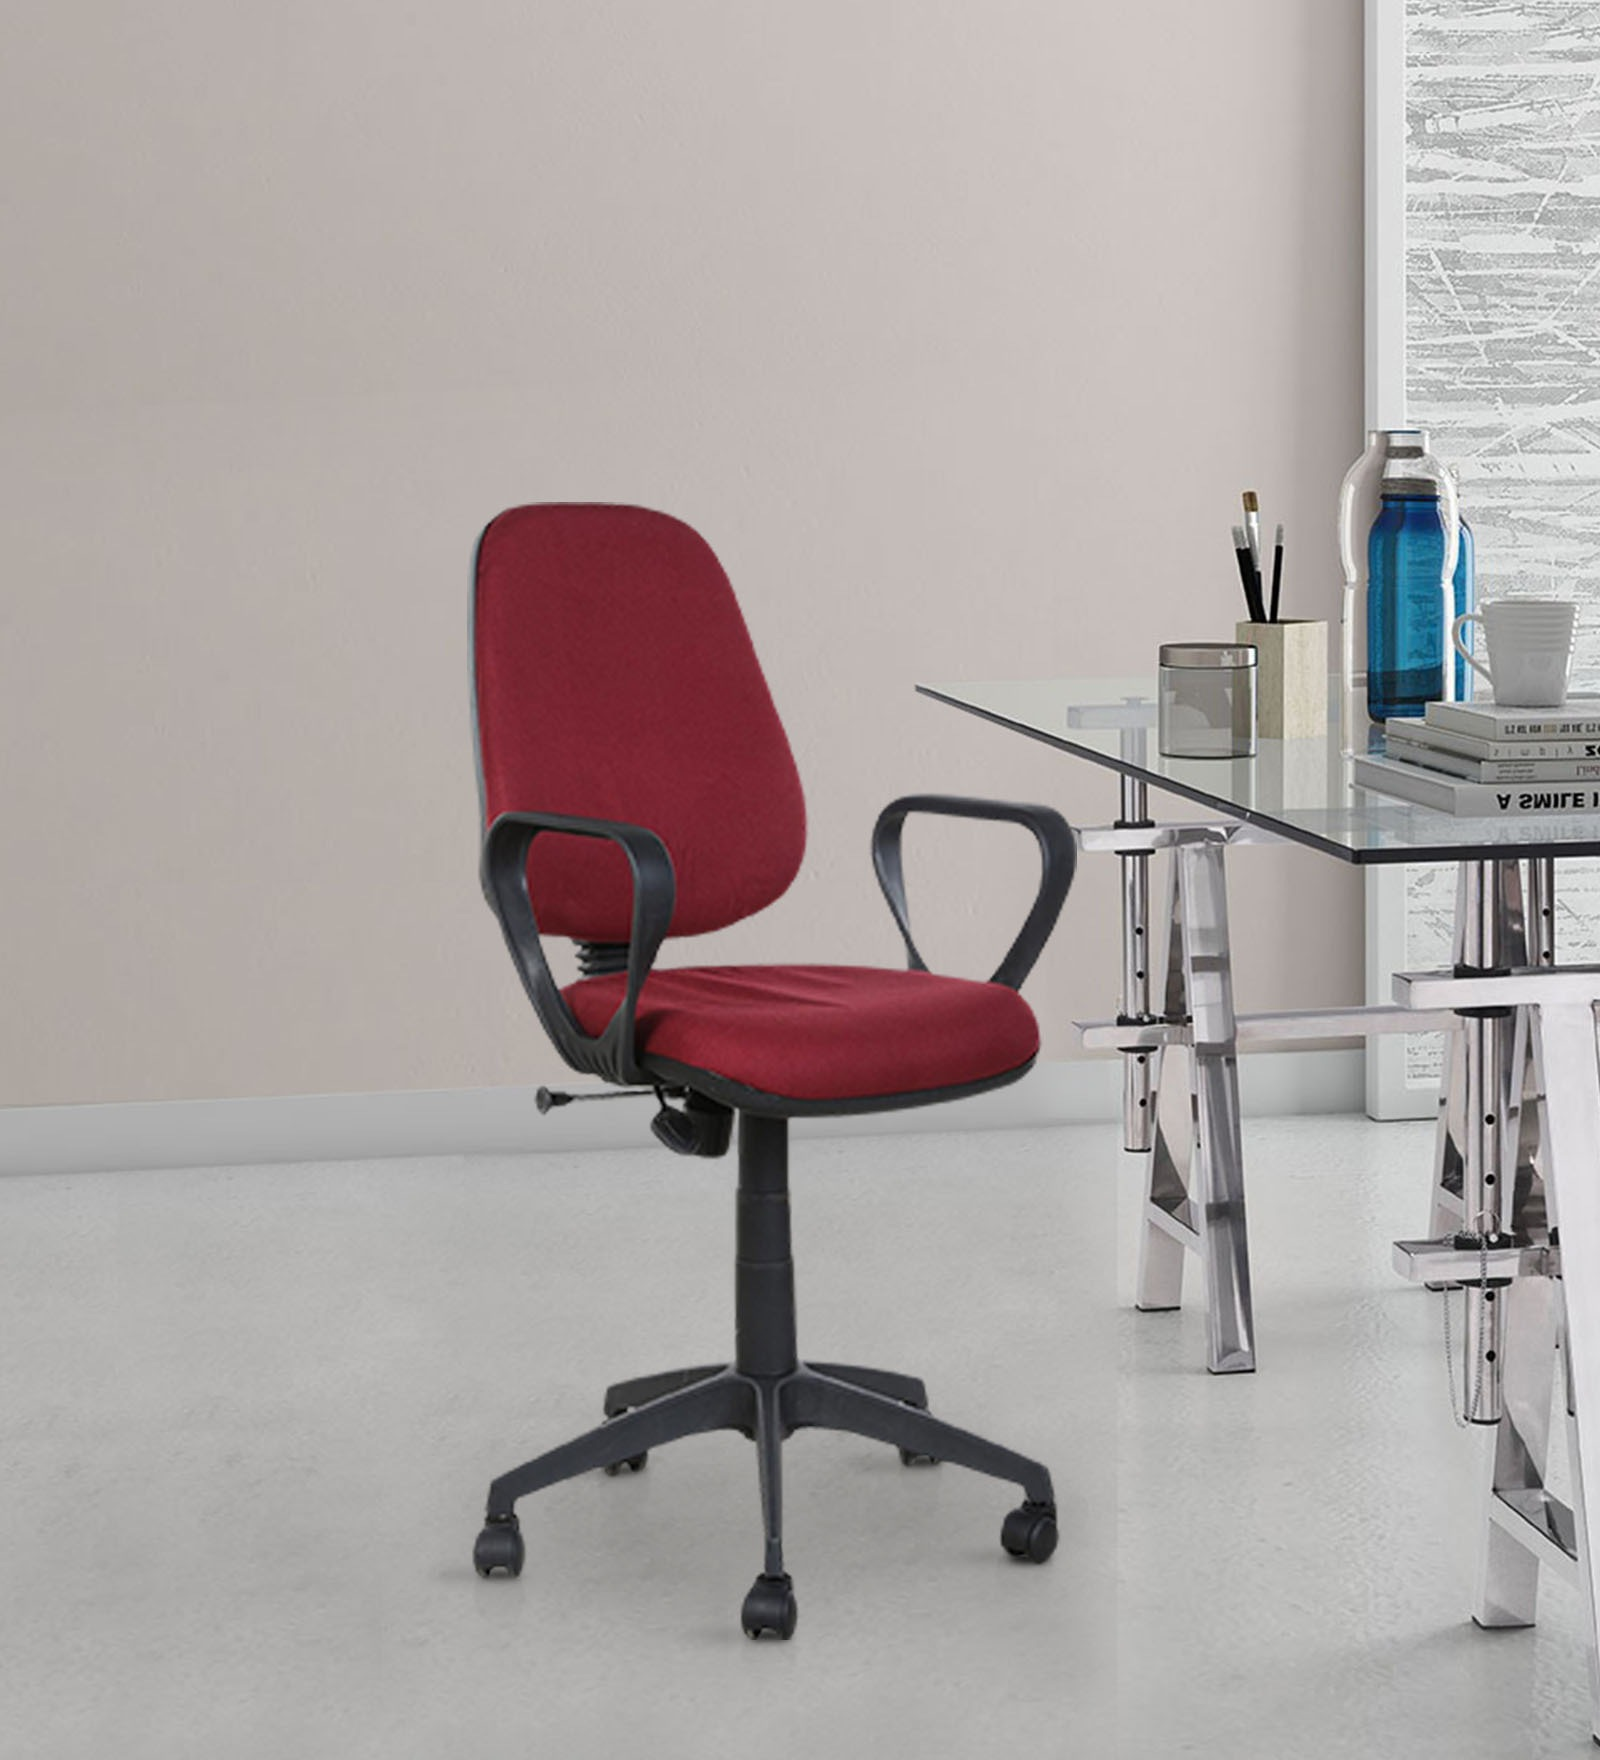Star Ergonomic Chair in Maroon Colour by Parin: (365, 428, 1166, 1716)
